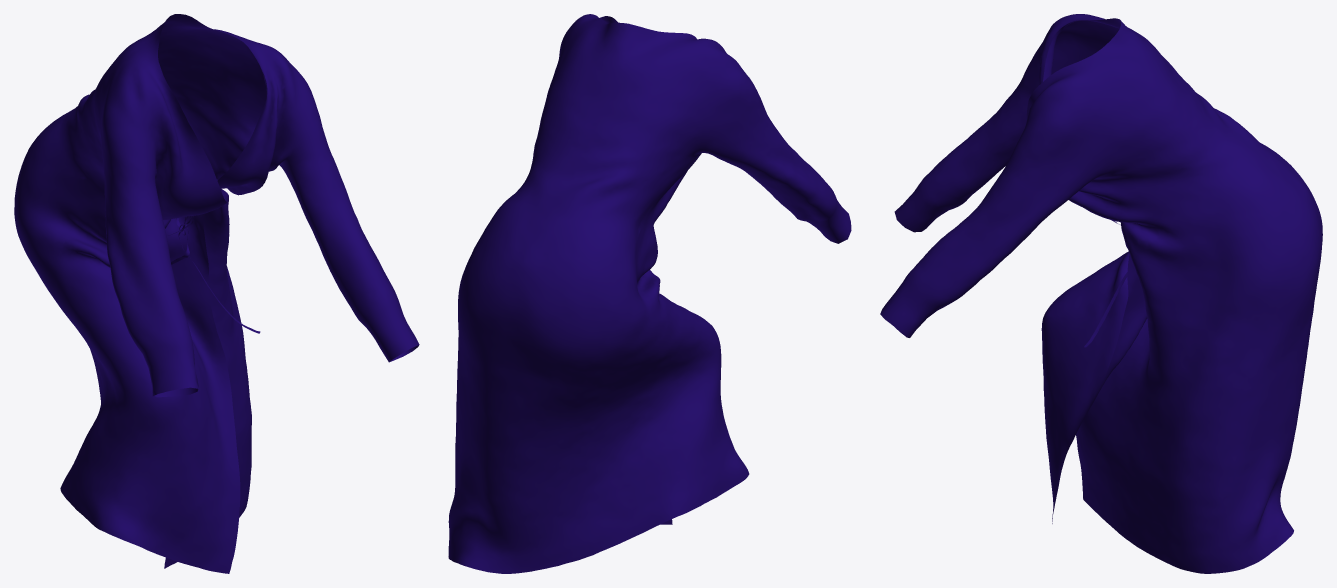
The model's file is ori_MV2_Work_Bib_Overalls.obj.
The picture shows the model from 3 angles, left to right: view 1: azimuth 30°, elevation 25°; view 2: azimuth 150°, elevation 25°; view 3: azimuth 270°, elevation 25°; orthographic projection. The views are drawn at different scales.
Visible parts, largest first — view 1: ori_christine_021; view 2: ori_christine_021; view 3: ori_christine_021.
Boxes of the visible parts, <box> form: ori_christine_021: <box>14,14,419,573</box>; ori_christine_021: <box>448,14,851,573</box>; ori_christine_021: <box>880,14,1322,573</box>.
Bounding box in the file's own units: 0.4742 × 0.9658 × 0.7743.
